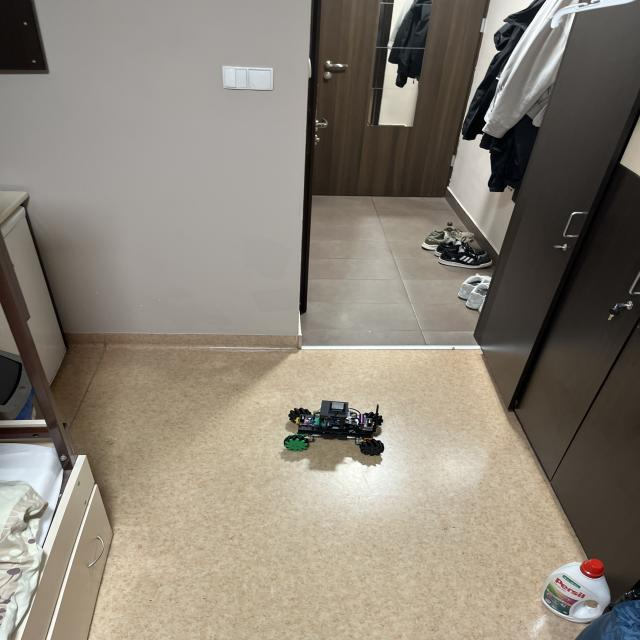robot: (284, 401, 384, 456)
